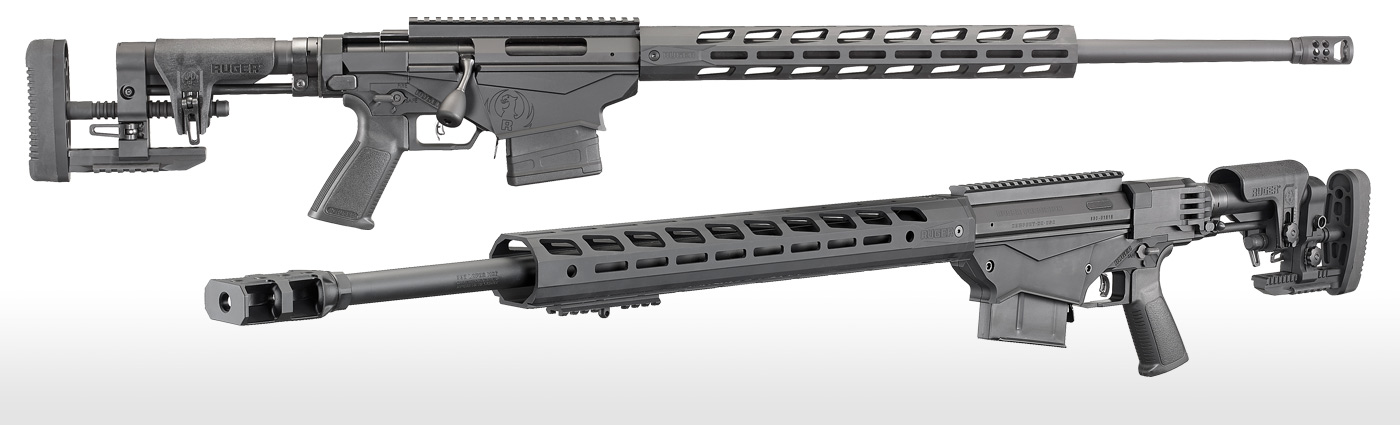Gun: (224, 188, 1391, 356), (27, 18, 1346, 157)
